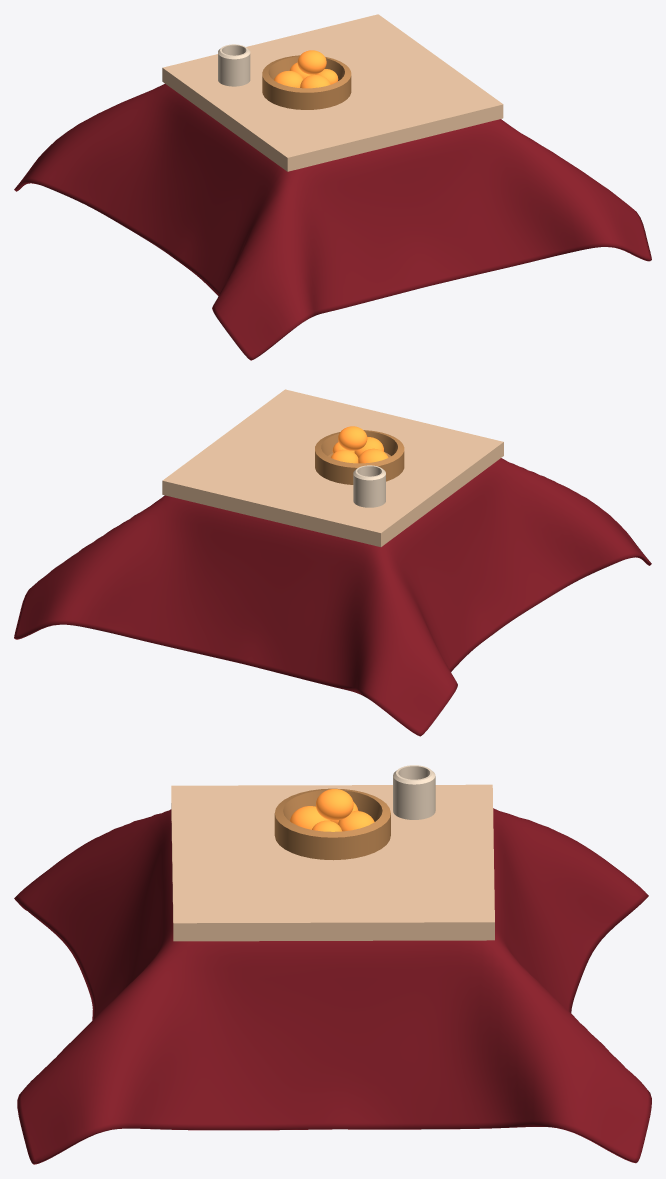
Rendered from kotatsu.glb.
3 views of the same model, one above another, from view 1: azimuth 30°, elevation 25°; view 2: azimuth 150°, elevation 25°; view 3: azimuth 270°, elevation 25° (orthographic). The views are drawn at different scales.
Visible parts, largest first — view 1: 平面, 平面.005, 円柱, 円柱.005, 円柱.002; view 2: 平面, 平面.005, 円柱, 円柱.005, 円柱.002; view 3: 平面, 平面.005, 円柱, 円柱.005, 円柱.002.
Boxes of the visible parts, left/top/right/bottom form: 平面: left=14, top=84, right=651, bottom=360; 平面.005: left=162, top=14, right=503, bottom=171; 円柱: left=262, top=55, right=351, bottom=109; 円柱.005: left=274, top=50, right=338, bottom=88; 円柱.002: left=218, top=44, right=250, bottom=86; 平面: left=14, top=458, right=651, bottom=736; 平面.005: left=162, top=389, right=503, bottom=546; 円柱: left=315, top=430, right=404, bottom=484; 円柱.005: left=331, top=426, right=388, bottom=463; 円柱.002: left=353, top=465, right=385, bottom=507; 平面: left=14, top=808, right=651, bottom=1164; 平面.005: left=171, top=784, right=494, bottom=941; 円柱: left=274, top=788, right=390, bottom=860; 円柱.005: left=290, top=789, right=374, bottom=831; 円柱.002: left=393, top=765, right=435, bottom=819.
Bounding box in the file's own units: 3.45 × 1.39 × 3.44.
